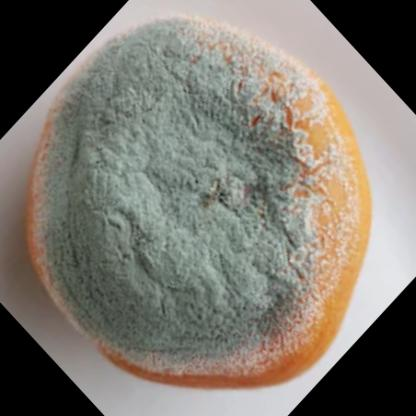rotten: (28, 20, 371, 391)
